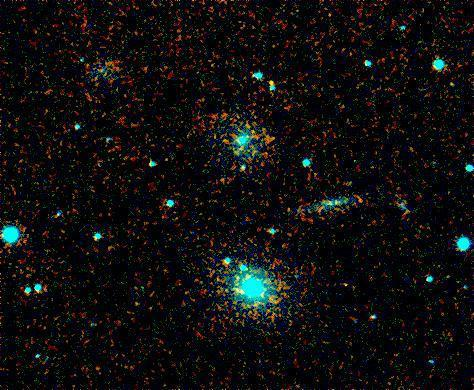star: (256, 66, 286, 96)
